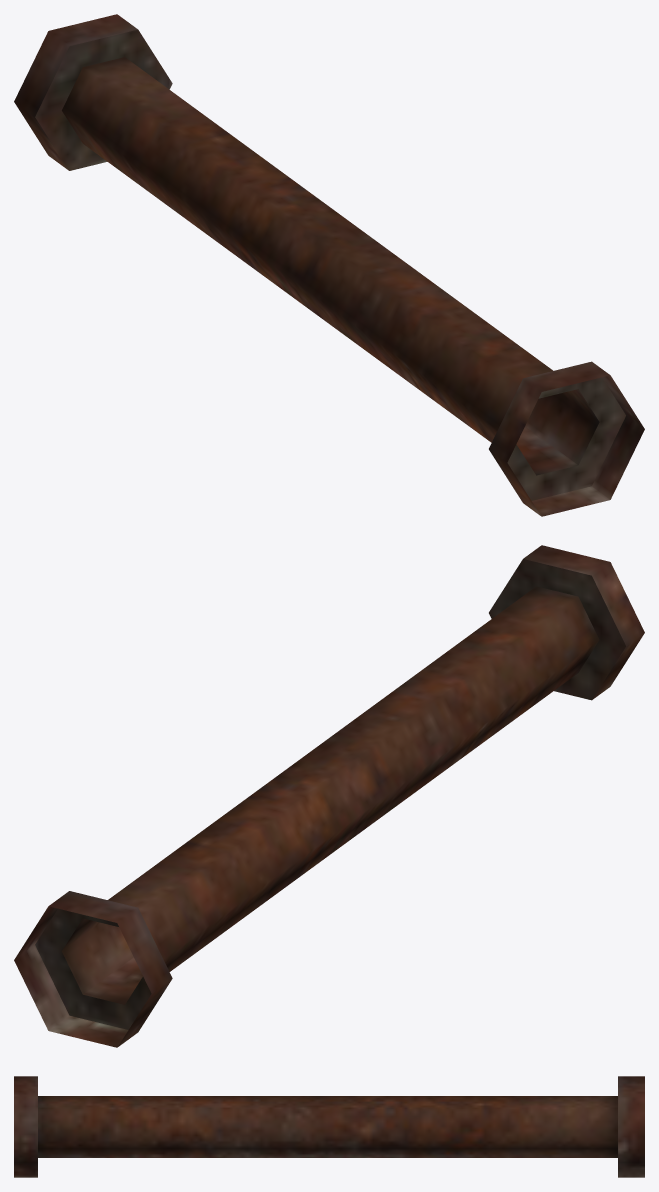
The model's file is TankPipe.FBX.
The picture shows the model from 3 angles, top to bottom: view 1: azimuth 30°, elevation 25°; view 2: azimuth 150°, elevation 25°; view 3: azimuth 270°, elevation 25°; orthographic projection. The views are drawn at different scales.
Visible parts, largest first — view 1: TankPipe; view 2: TankPipe; view 3: TankPipe.
Part boxes in pixels (x1,y1,x2,y2): TankPipe: (14,14,644,516); TankPipe: (14,545,644,1047); TankPipe: (14,1076,644,1177).
Size of the model in its own units: 116 by 100 by 718.
